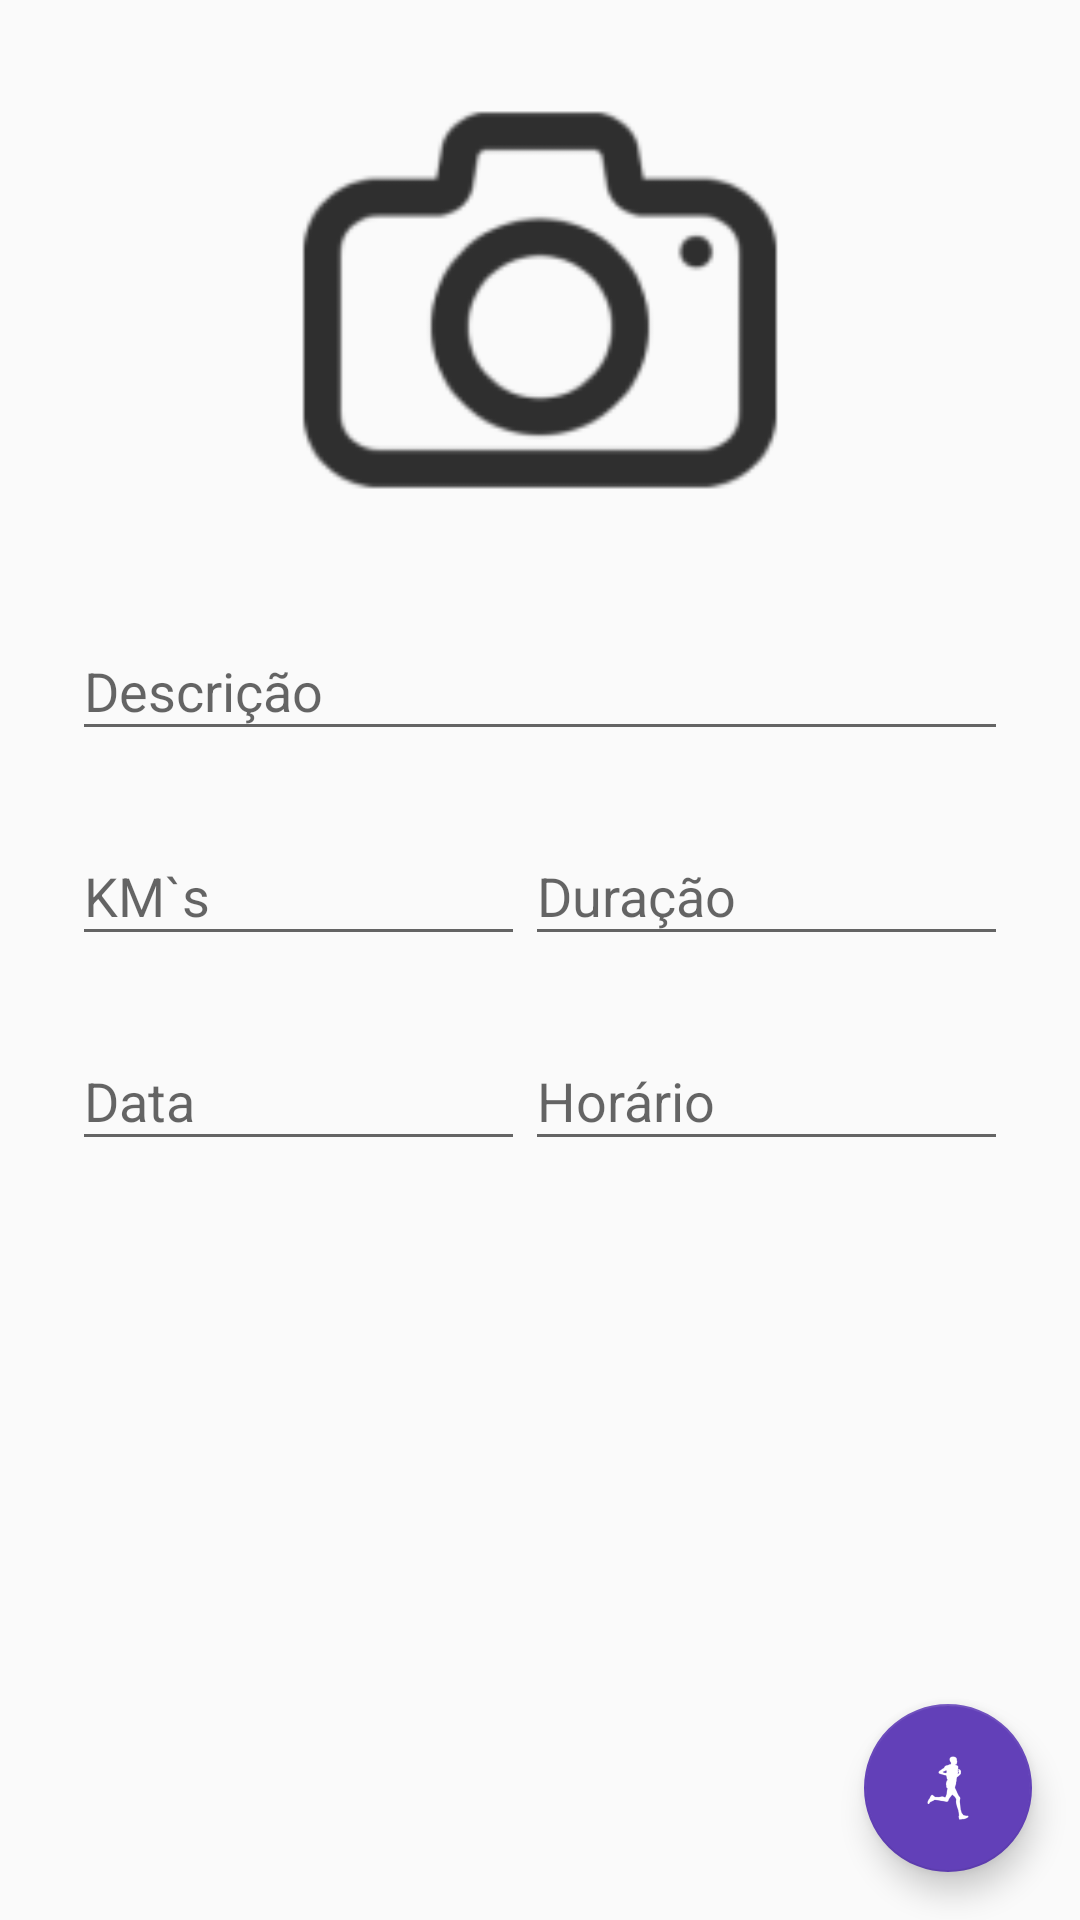

Icons on this 1080 × 1920 Android screen, each with its box as (x1, y1, x2, y2):
runner: (864, 1704, 1032, 1872)
